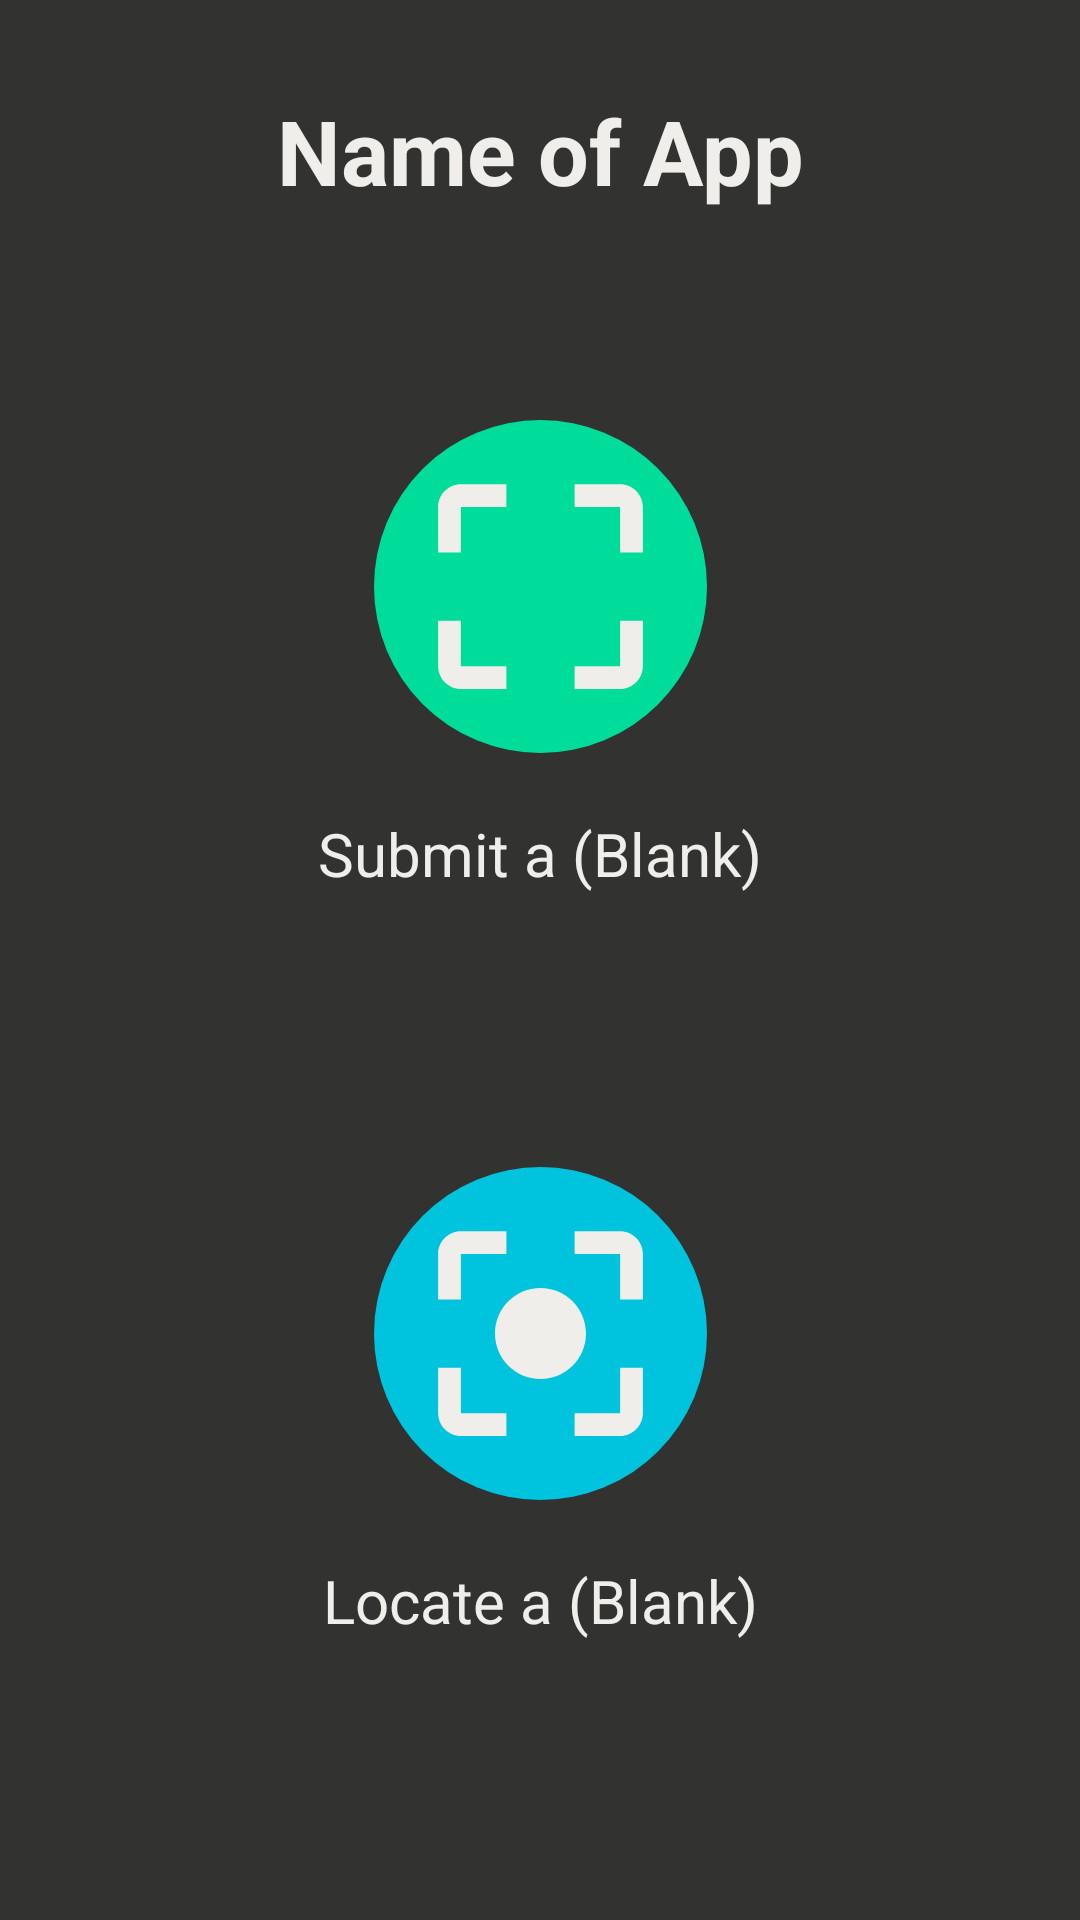

Icon bounding boxes for this 1080×1920 phone screenshot, format (x1, y1, x2, y2):
center focus strong: (438, 1231, 643, 1436)
crop free: (438, 484, 643, 689)
